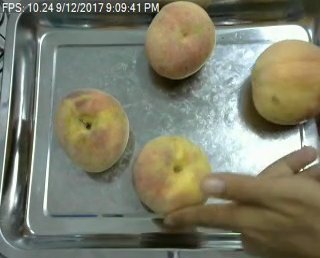Peach: (132, 134, 209, 218), (53, 88, 130, 172), (250, 39, 319, 126), (144, 0, 217, 80)
